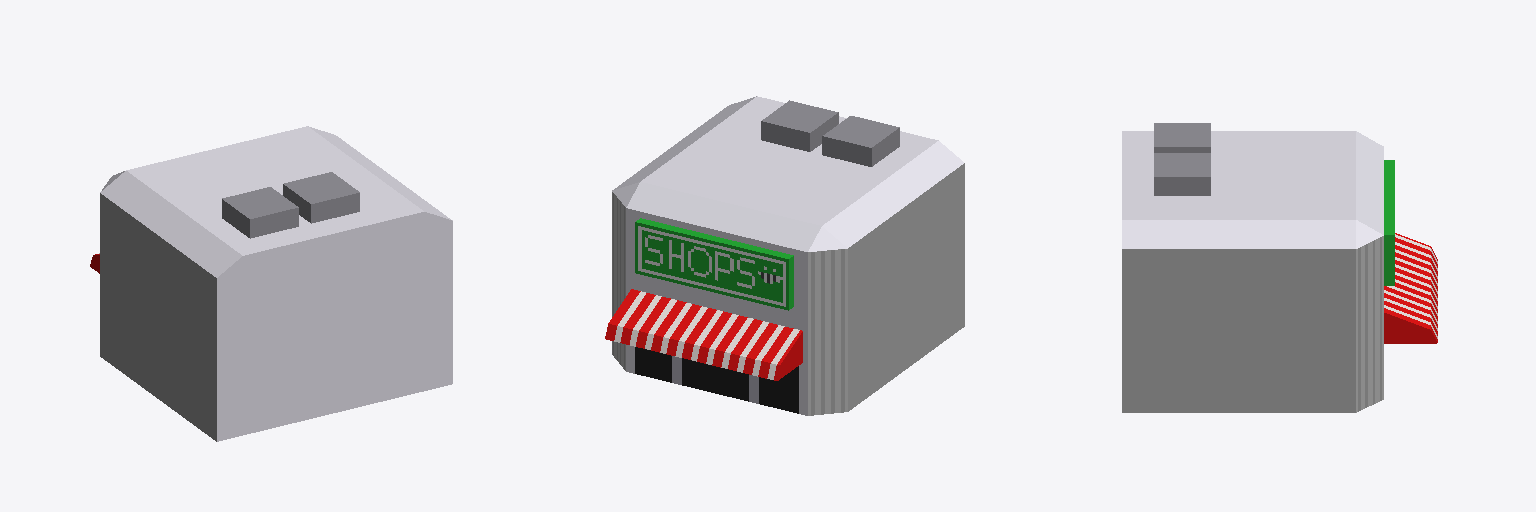
3 renders of one model, left to right at view 1: azimuth 30°, elevation 25°; view 2: azimuth 150°, elevation 25°; view 3: azimuth 270°, elevation 25°, orthographic.
Parts seen in each view (by area): view 1: body, cuboid; view 2: body, cuboid; view 3: body, cuboid.
Boxes of the visible parts, <box> form: body: <box>100,126,452,441</box>; cuboid: <box>90,172,359,273</box>; body: <box>612,96,964,415</box>; cuboid: <box>605,100,899,380</box>; body: <box>1122,131,1383,412</box>; cuboid: <box>1154,123,1437,343</box>.
Bounding box in the file's own units: 4.81 × 3.88 × 5.57.
1 materials, 1 textured.